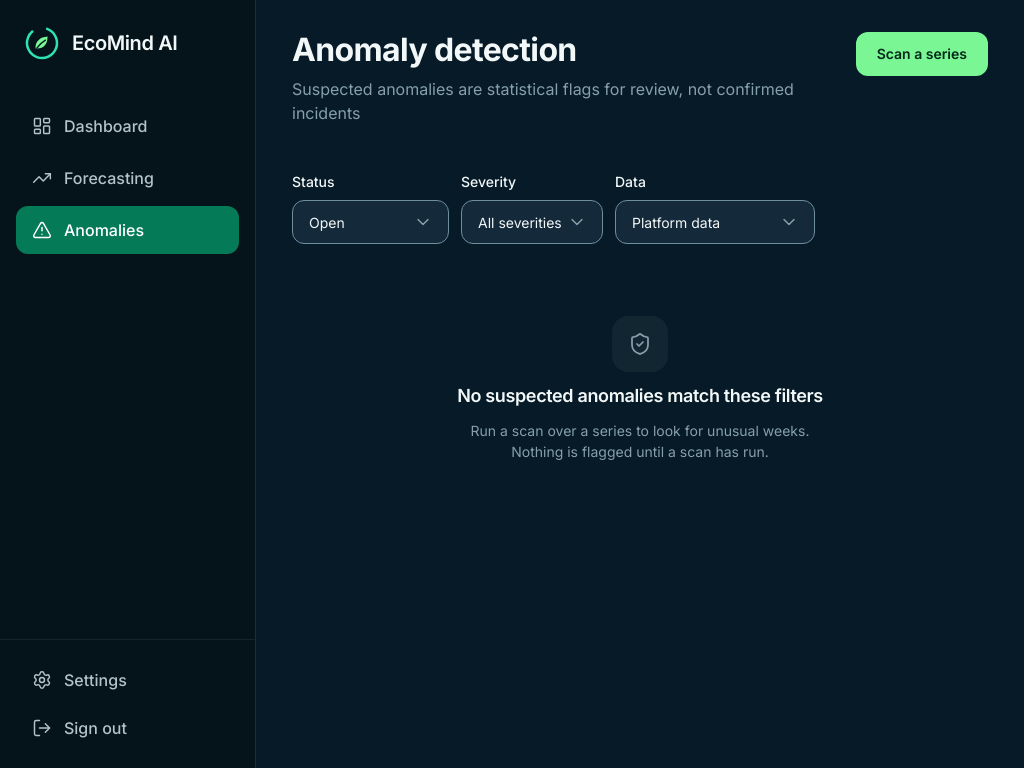
Test: anomalies page › scans a chosen series and reports what it found, with the caveat
Expected: the heading "No suspected anomalies match these filters" is shown, top-left (457, 384), bottom-right (823, 408)
Click the button "Scan a series" at (922, 54), box top-left (856, 32), bottom-right (988, 76)
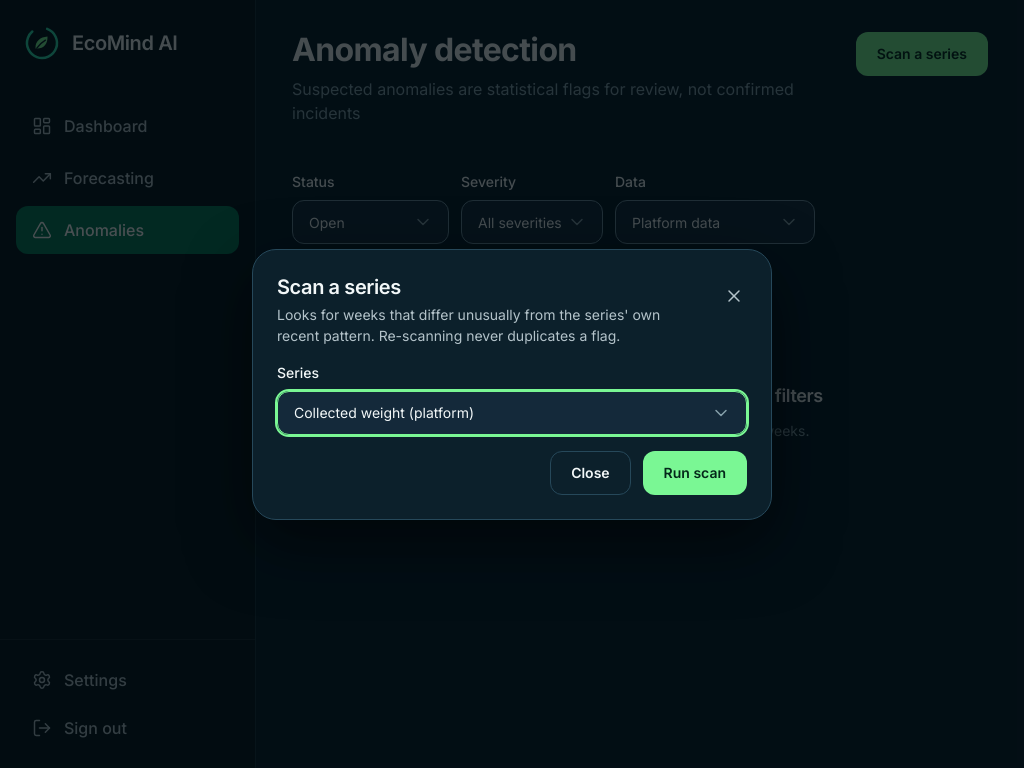
Select "Austin curbside (public reference)" in the dropdown labelled "Series" at (512, 412), box top-left (277, 390), bottom-right (747, 434)
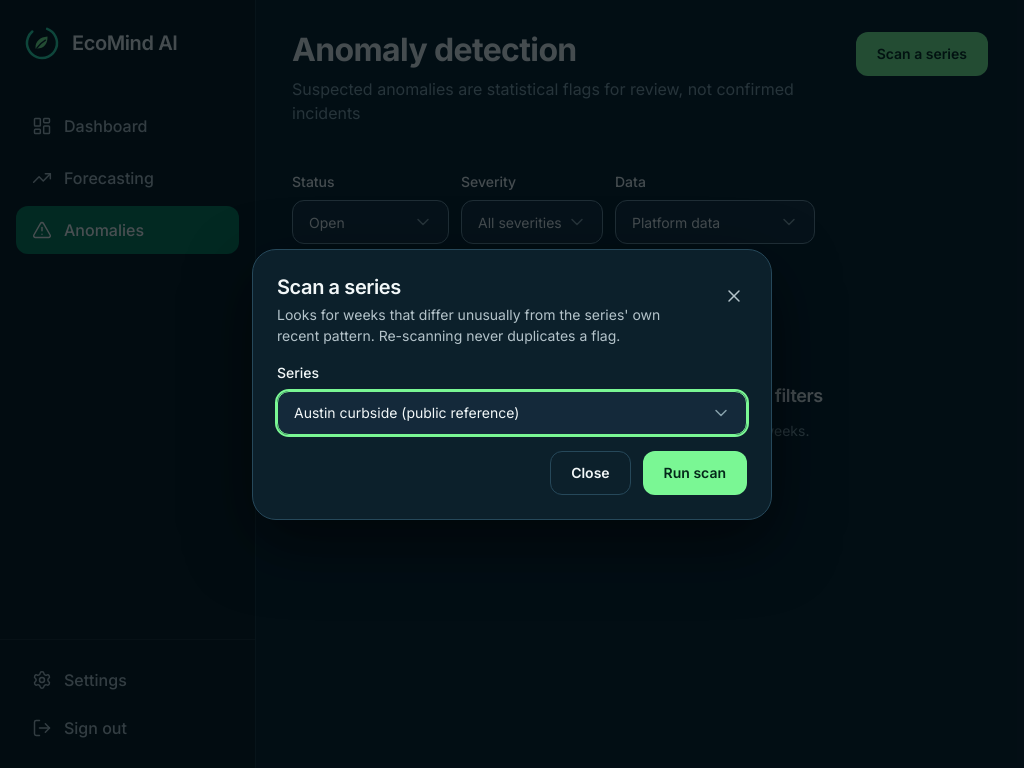
Click the button "Run scan" at (695, 472), box top-left (643, 450), bottom-right (747, 494)
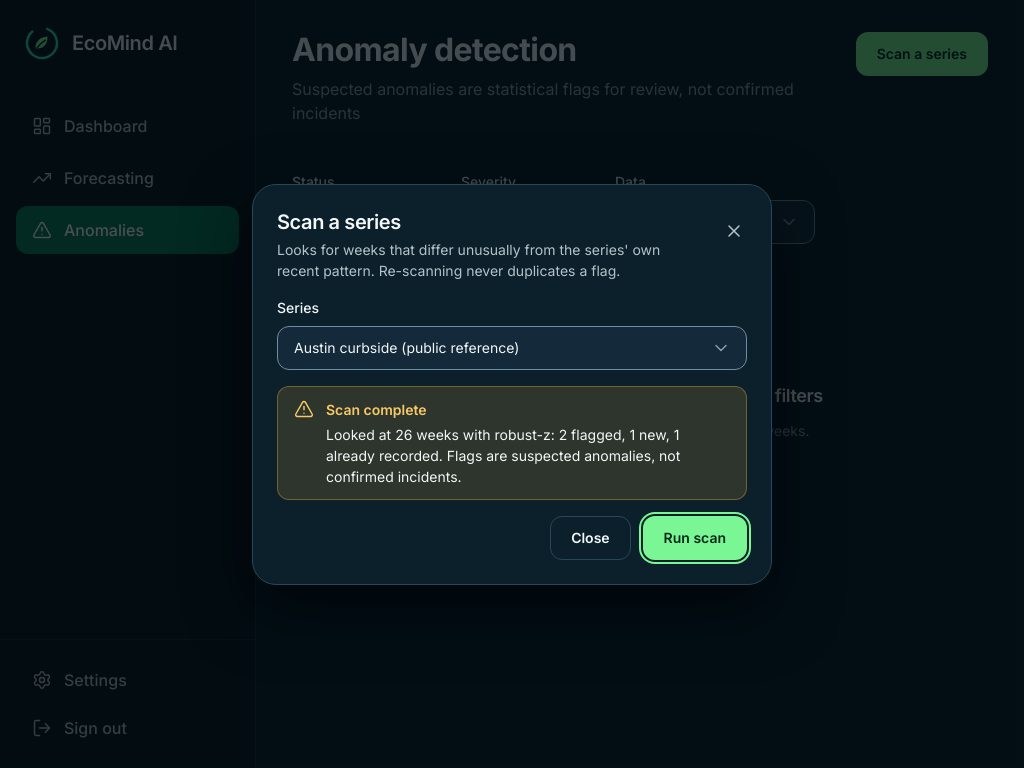
Expected: the text "2 flagged, 1 new, 1 already recorded" is shown, top-left (326, 424), bottom-right (730, 486)
